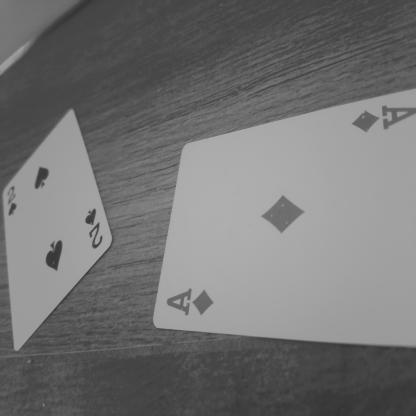2S: (76, 194, 110, 259)
AD: (158, 279, 233, 333)
